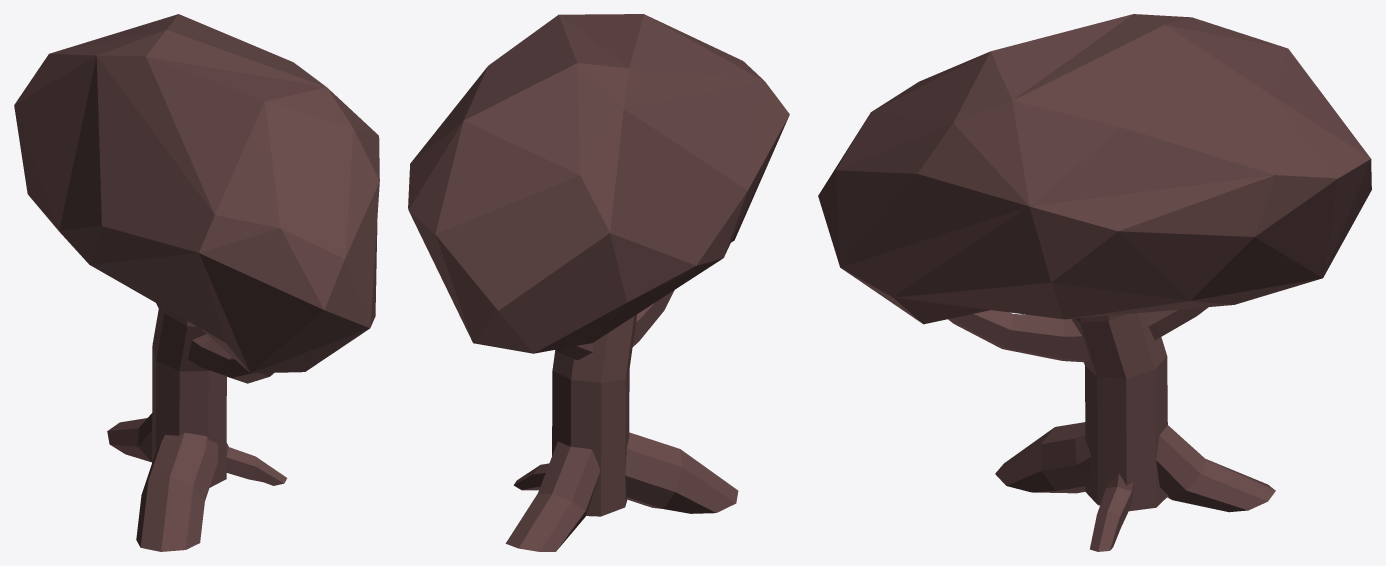
Rendered from robleAdulto.fbx.
3 views of the same model, side by side, from view 1: azimuth 30°, elevation 25°; view 2: azimuth 150°, elevation 25°; view 3: azimuth 270°, elevation 25° (orthographic). The views are drawn at different scales.
Parts seen in each view (by area): view 1: roble; view 2: roble; view 3: roble.
Boxes of the visible parts, <box> form: roble: <box>14,14,379,551</box>; roble: <box>408,14,789,551</box>; roble: <box>818,14,1371,551</box>.
Size of the model in its own units: 5.76 by 9.25 by 9.53.
